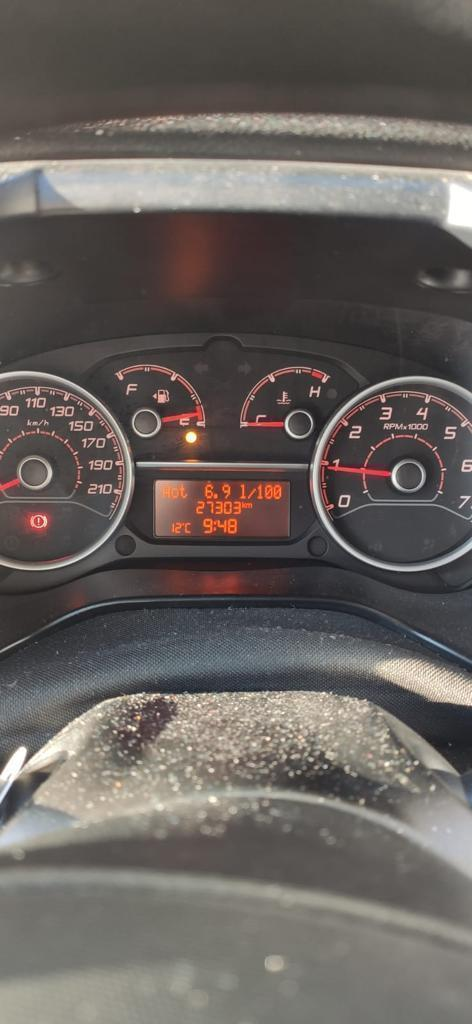,: (213, 492, 218, 499)
0: (263, 484, 273, 499), (273, 484, 282, 499), (223, 501, 232, 515)
1: (256, 483, 263, 500), (170, 521, 174, 533)
2: (195, 500, 205, 514), (174, 522, 181, 533)
3: (232, 500, 241, 515), (214, 501, 223, 514)
4: (216, 519, 227, 533)
6: (204, 483, 212, 499)
7: (205, 500, 214, 514)
8: (227, 518, 237, 534)
9: (201, 517, 212, 534), (220, 483, 231, 499)
X: (160, 484, 170, 498), (179, 483, 188, 498), (238, 483, 246, 499), (246, 488, 256, 499), (170, 487, 179, 498), (184, 522, 191, 533), (245, 502, 252, 508), (241, 500, 246, 508), (213, 520, 216, 531)
odometer: (148, 475, 294, 545)
